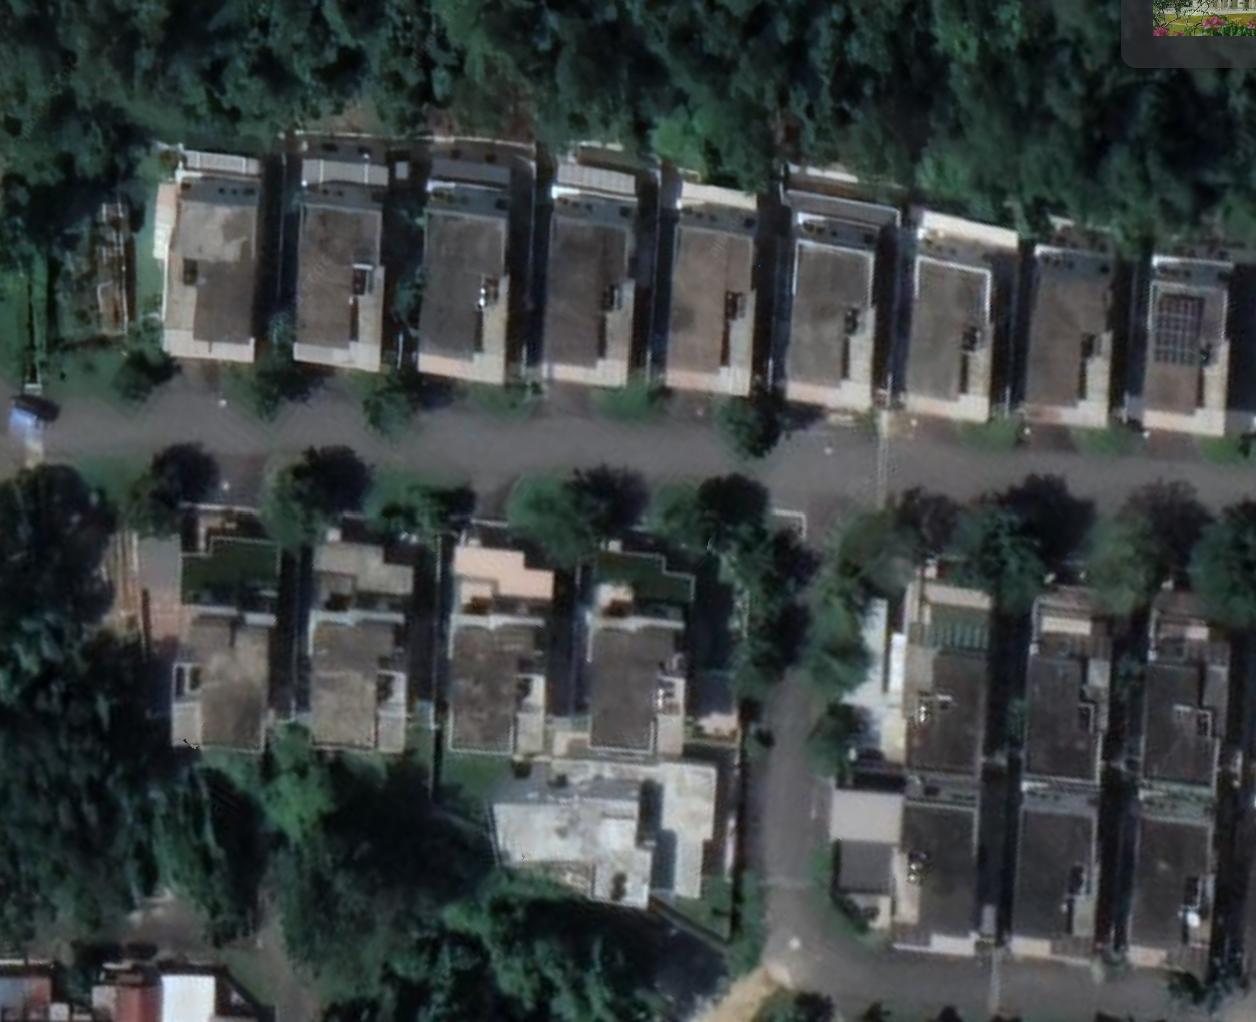building: (814, 539, 1010, 794), (474, 754, 731, 927), (153, 487, 304, 770), (296, 500, 450, 769), (406, 117, 550, 404), (436, 499, 584, 769), (270, 117, 417, 387), (534, 127, 669, 403), (810, 777, 997, 976), (769, 163, 904, 434), (889, 186, 1031, 439), (139, 133, 274, 377), (650, 164, 770, 411), (1014, 200, 1134, 444), (576, 527, 699, 760), (1009, 557, 1130, 784), (1126, 226, 1244, 456), (1109, 789, 1237, 996), (1006, 779, 1124, 989), (1126, 569, 1231, 796)
